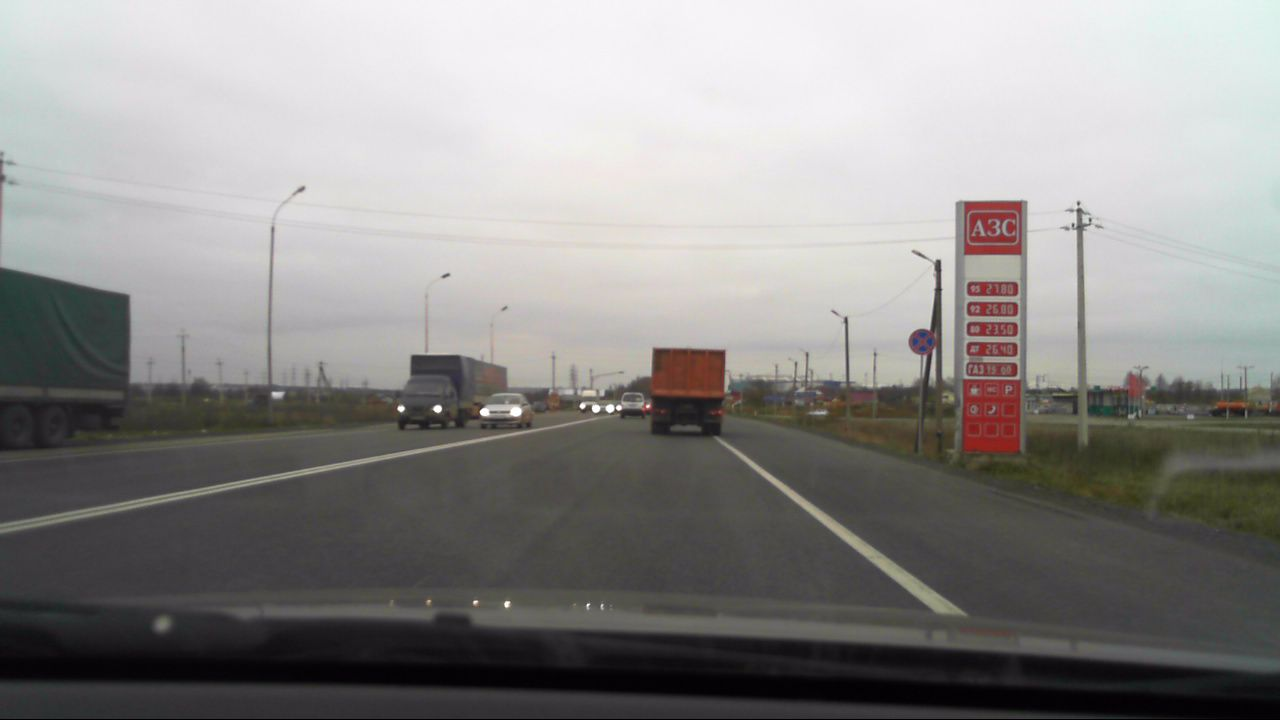No Parking: (908, 328, 938, 357)
